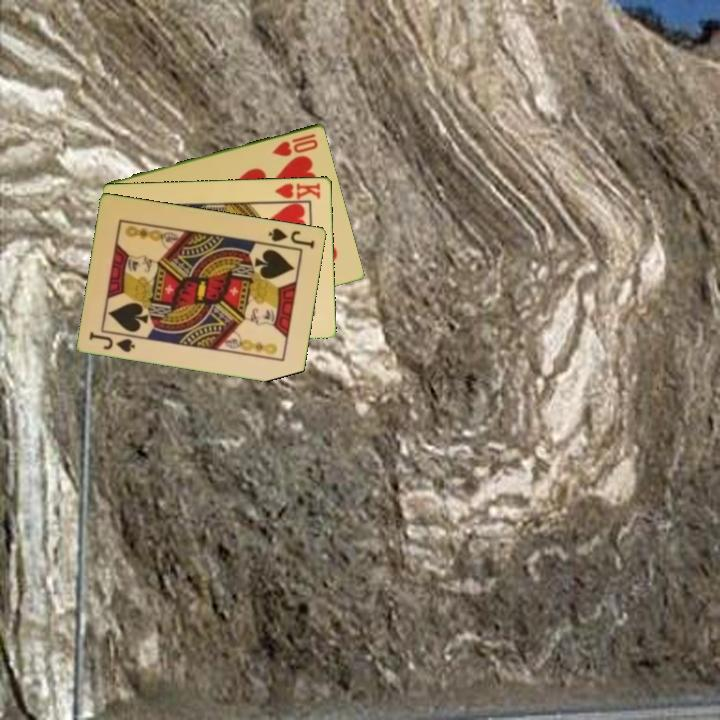10h: (269, 130, 321, 159)
Js: (265, 224, 318, 251), (86, 328, 138, 355)
Kh: (269, 179, 324, 204)
